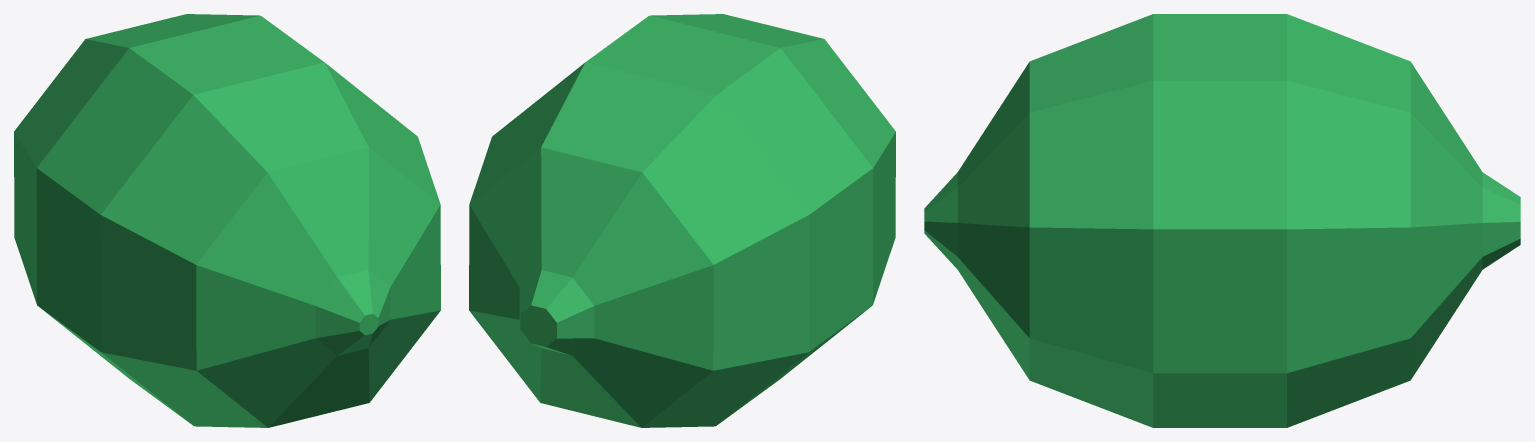
The model's file is Food_LimeFull.fbx.
The picture shows the model from 3 angles, left to right: view 1: azimuth 30°, elevation 25°; view 2: azimuth 150°, elevation 25°; view 3: azimuth 270°, elevation 25°; orthographic projection. The views are drawn at different scales.
Parts seen in each view (by area): view 1: Cylinder.010; view 2: Cylinder.010; view 3: Cylinder.010.
Boxes of the visible parts, <box> form: Cylinder.010: <box>14,14,440,427</box>; Cylinder.010: <box>469,14,895,427</box>; Cylinder.010: <box>924,14,1520,427</box>.
Bounding box in the file's own units: 5 × 5 × 7.78.
